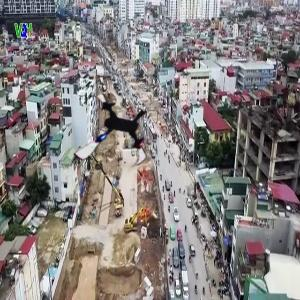drone: (69, 89, 159, 179)
